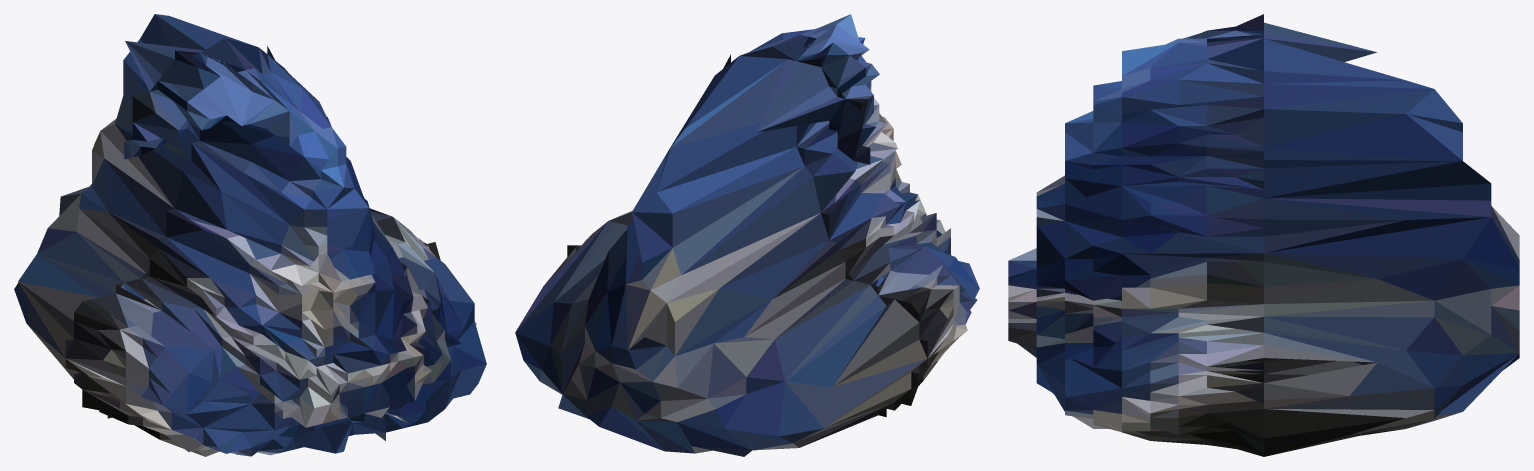
Rendered from B10_1_astral_wizard_hat.obj.
The picture shows the model from 3 angles, left to right: view 1: azimuth 30°, elevation 25°; view 2: azimuth 150°, elevation 25°; view 3: azimuth 270°, elevation 25°; orthographic projection. The views are drawn at different scales.
Visible parts, largest first — view 1: B10_1_astral_wizard_hat; view 2: B10_1_astral_wizard_hat; view 3: B10_1_astral_wizard_hat.
Part boxes in pixels (<box>): B10_1_astral_wizard_hat: <box>14,14,486,456</box>; B10_1_astral_wizard_hat: <box>515,14,979,456</box>; B10_1_astral_wizard_hat: <box>1008,14,1519,456</box>.
Bounding box in the file's own units: 44 × 43 × 54.
